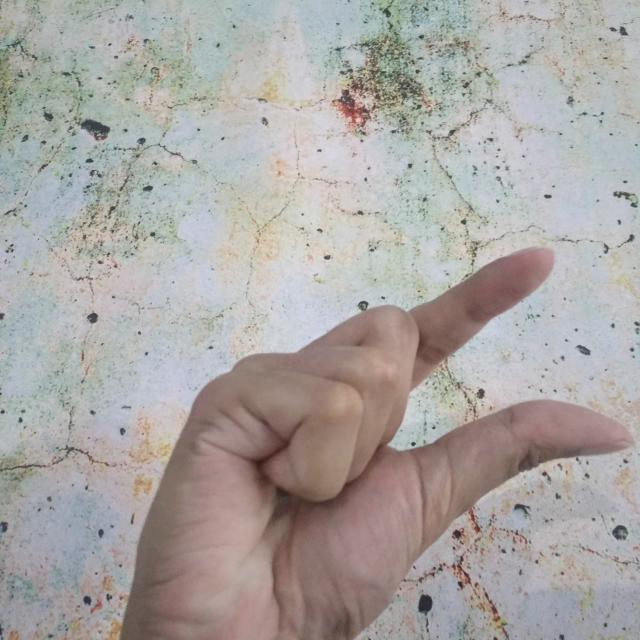G: (125, 245, 640, 640)
